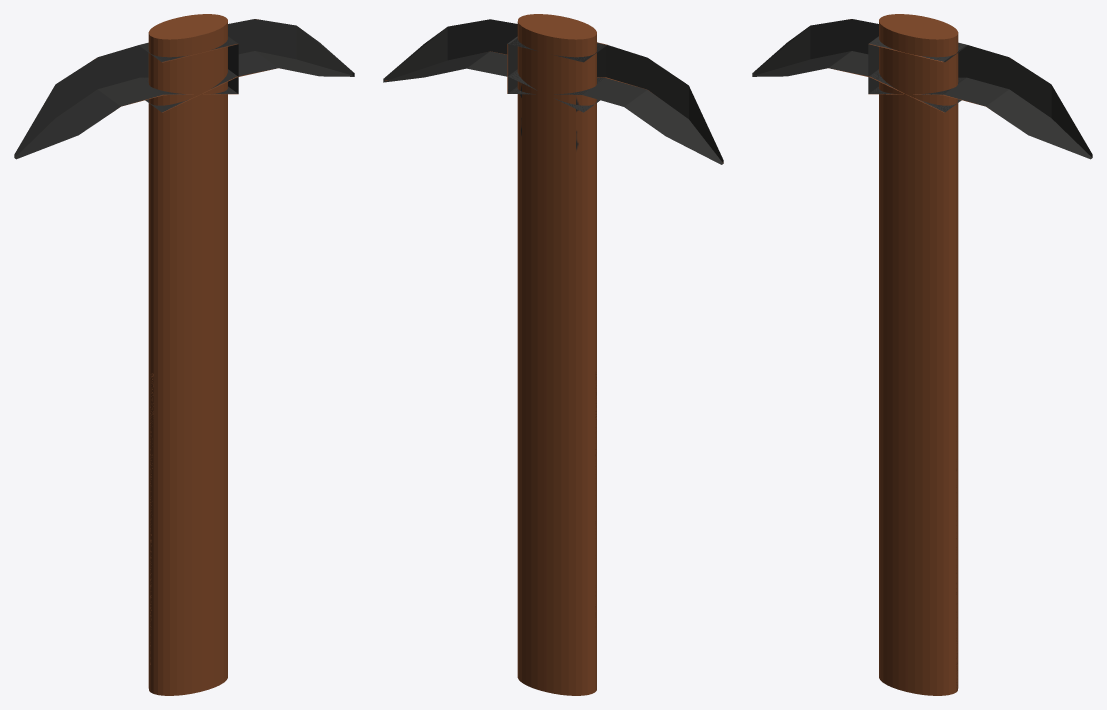
Rendered from Pickaxe.fbx.
3 renders of one model, left to right at view 1: azimuth 30°, elevation 25°; view 2: azimuth 150°, elevation 25°; view 3: azimuth 330°, elevation 25°, orthographic.
Visible parts, largest first — view 1: Pickaxe; view 2: Pickaxe; view 3: Pickaxe.
Boxes of the visible parts, x1,y1,x2,y2 form: Pickaxe: (14, 14, 354, 695); Pickaxe: (383, 14, 723, 695); Pickaxe: (752, 14, 1092, 695).
Bounding box in the file's own units: 137 × 253 × 17.16.
Materials: 1 (1 with a texture image).
